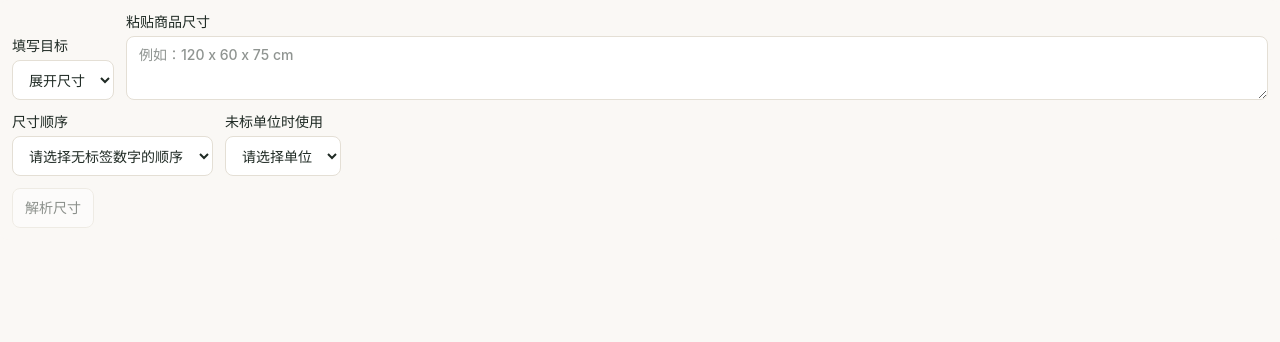
Test case: ProductDimensionsAssist confirmation boundary › requires an explicit axis order before applying an unlabelled triplet
This screenshot has width=1280, height=342.
Step 1. Type "120x60x75cm" into the text box labelled "粘贴商品尺寸" → (697, 68), box [126, 36, 1268, 100]
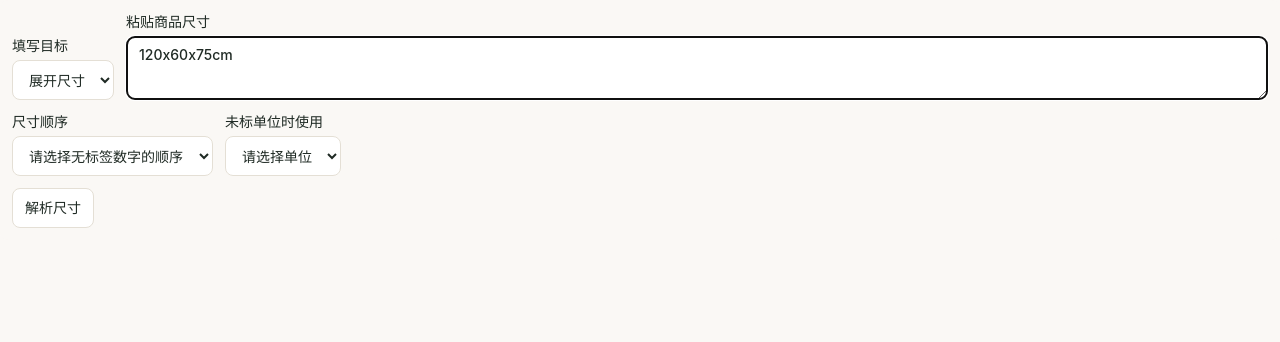
Step 2. Click the button "解析尺寸" → click(53, 208), box [12, 188, 94, 228]
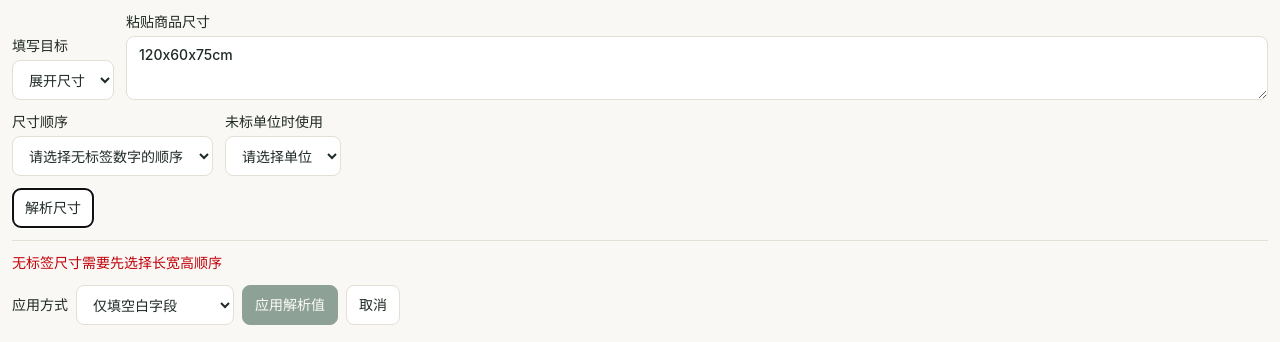
Check: the text "无标签尺寸需要先选择长宽高顺序" is shown, box [12, 254, 222, 271]
Check: the button "应用解析值" is disabled, box [242, 285, 338, 325]
